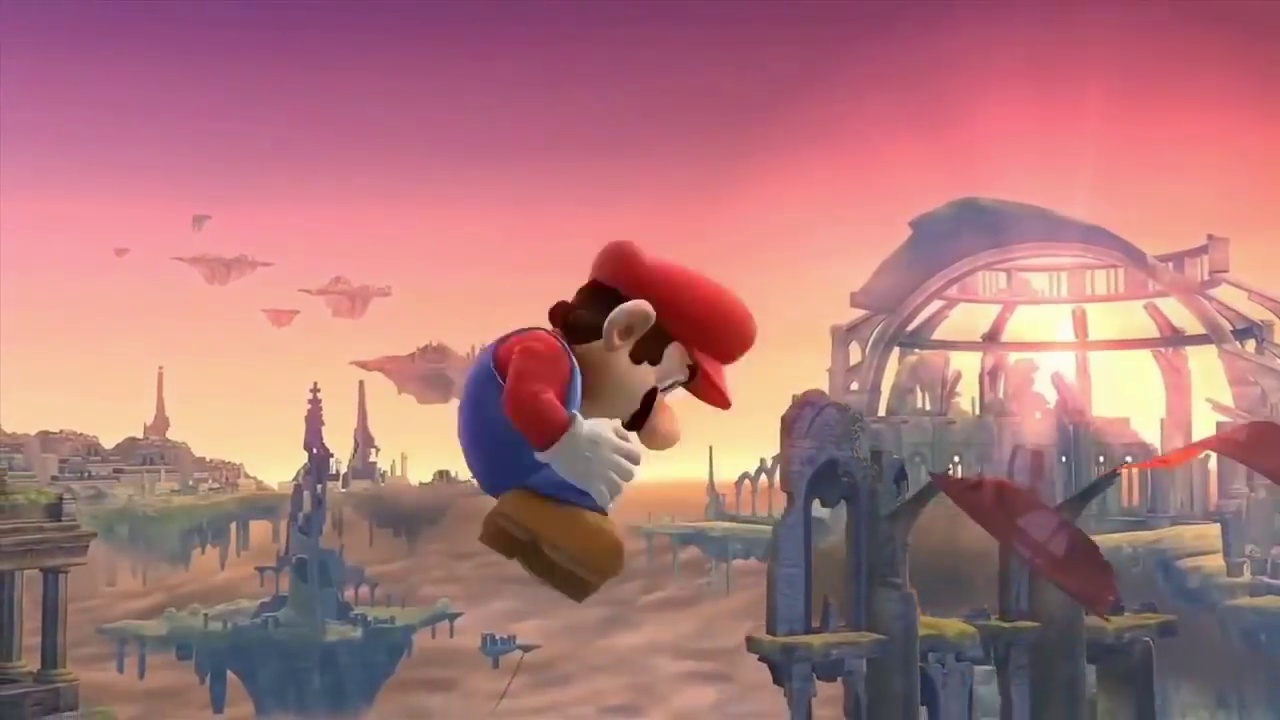Mario: (457, 241, 757, 602)
